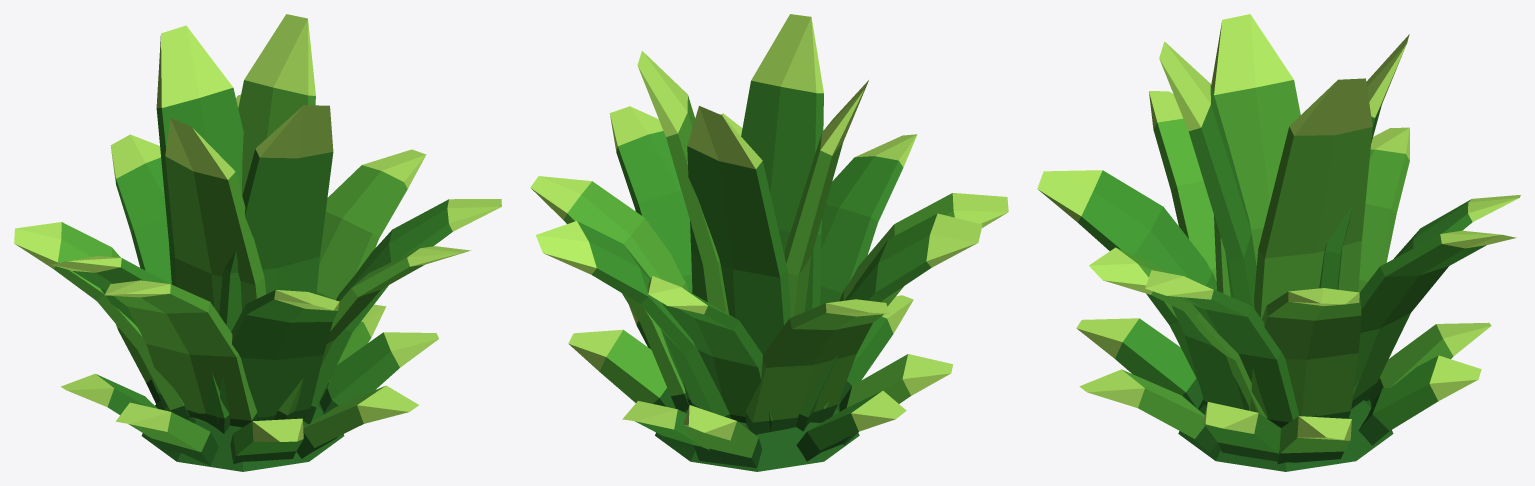
Rendered from tuft_lawn.glb.
3 renders of one model, left to right at view 1: azimuth 30°, elevation 25°; view 2: azimuth 150°, elevation 25°; view 3: azimuth 270°, elevation 25°, orthographic. The views are drawn at different scales.
Visible parts, largest first — view 1: Grass__3A962A, Grass__52AE32, Grass__B0EC5C, Grass__22641E; view 2: Grass__3A962A, Grass__52AE32, Grass__B0EC5C, Grass__22641E; view 3: Grass__52AE32, Grass__3A962A, Grass__B0EC5C, Grass__22641E.
Boxes of the visible parts, x1=… form: Grass__3A962A: x1=72, y1=87, x2=452, y2=455; Grass__52AE32: x1=54, y1=80, x2=424, y2=452; Grass__B0EC5C: x1=14, y1=14, x2=501, y2=441; Grass__22641E: x1=141, y1=379, x2=344, y2=471; Grass__3A962A: x1=577, y1=80, x2=937, y2=450; Grass__52AE32: x1=563, y1=95, x2=954, y2=457; Grass__B0EC5C: x1=530, y1=14, x2=1008, y2=440; Grass__22641E: x1=653, y1=381, x2=859, y2=471; Grass__52AE32: x1=1117, y1=80, x2=1453, y2=453; Grass__3A962A: x1=1078, y1=84, x2=1485, y2=453; Grass__B0EC5C: x1=1037, y1=14, x2=1520, y2=440; Grass__22641E: x1=1178, y1=378, x2=1393, y2=471.
Size of the model in its own units: 5.26 by 4.56 by 5.09.
